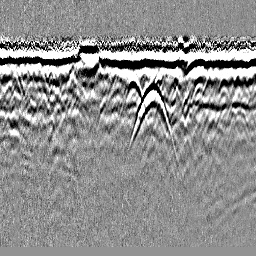cavity: (120, 73, 142, 113)
